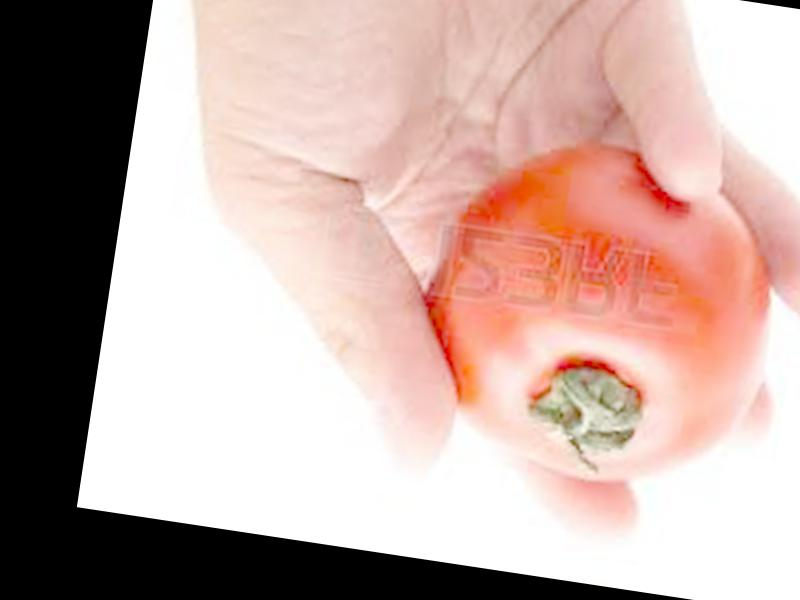Tomato: (406, 124, 794, 502)
